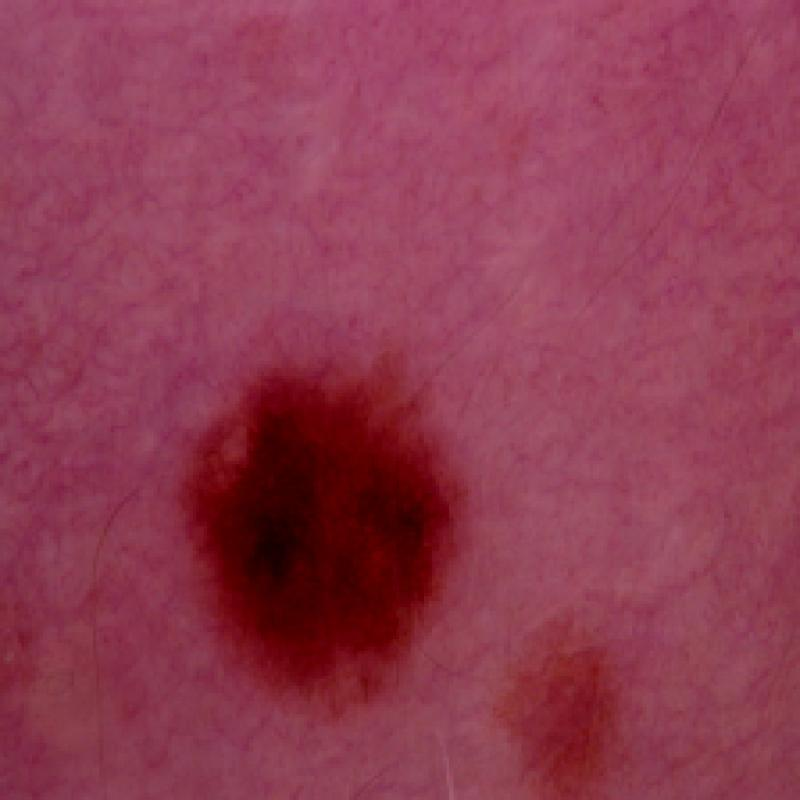benign: (167, 351, 469, 714), (484, 610, 630, 800)
